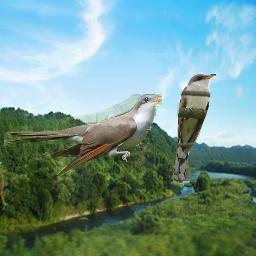Cuckoo: (4, 94, 162, 175), (173, 73, 218, 183)
